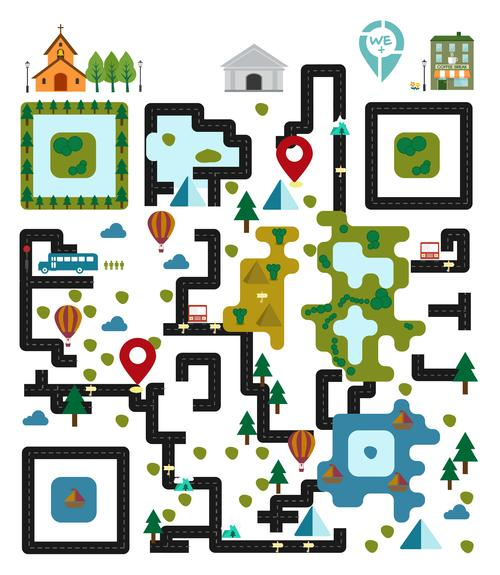QRCode: (13, 91, 500, 559)
